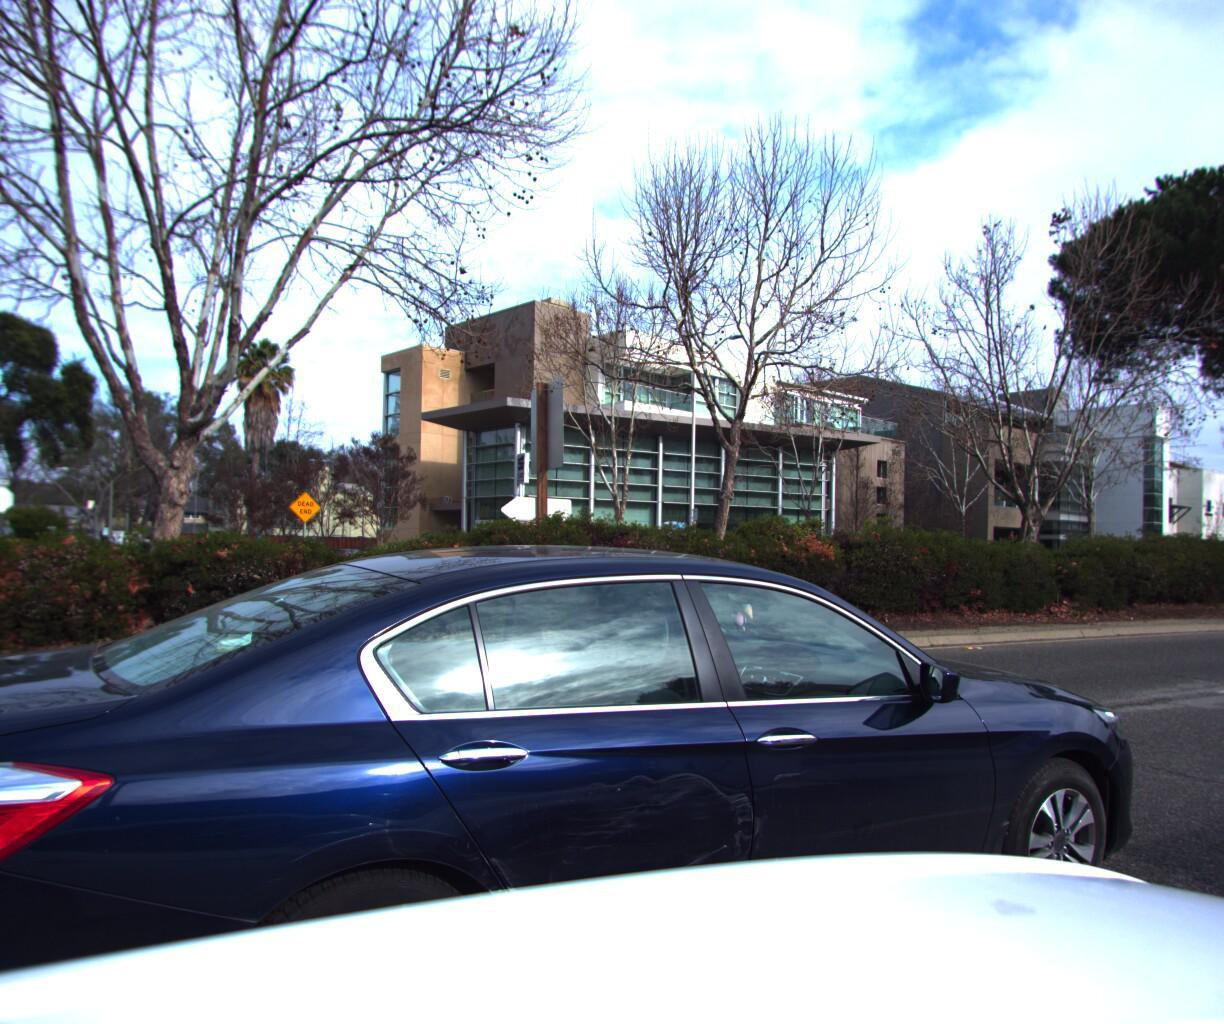car: (0, 517, 1184, 1024)
